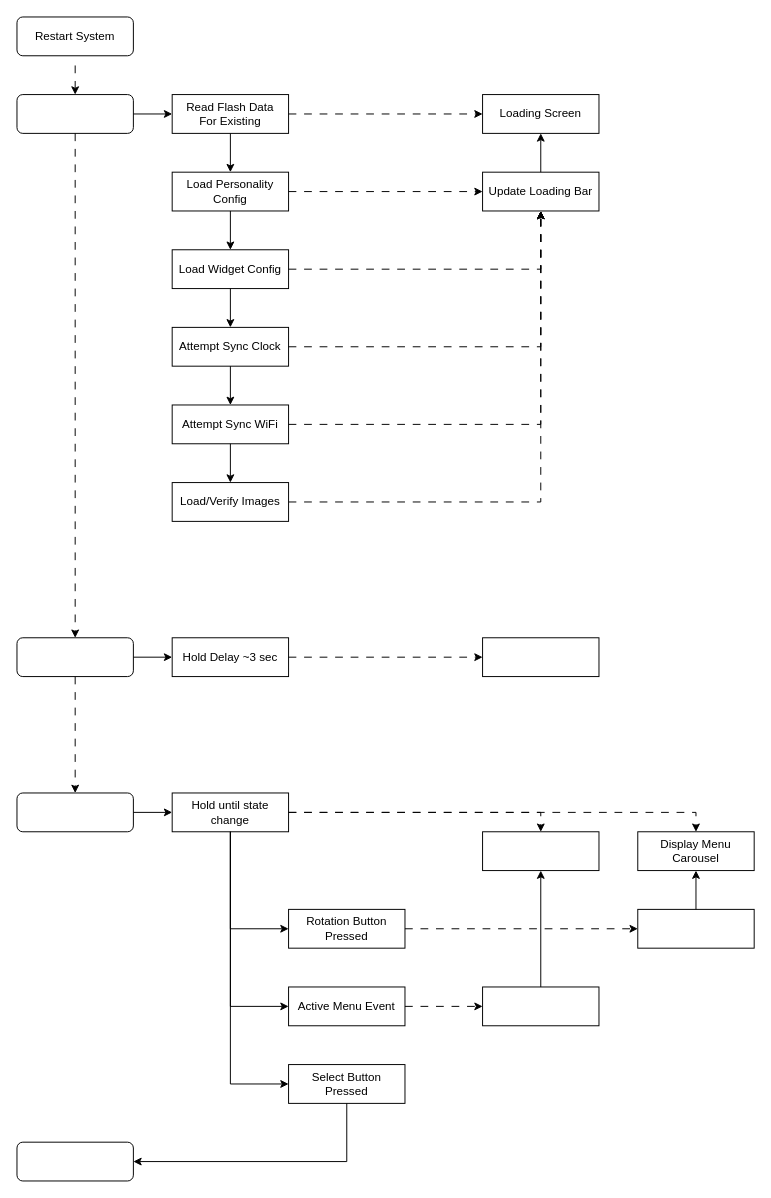
The diagram is 771 pixels wide and 1198 high, and some of its shapes have lost their labels. The shapes that lost their labels are listed below. From the top down, each one's centre as x and y in pixels, then its label:
At point 74,113: "Startup".
At point 74,657: "Personality Hero Screen".
At point 540,657: "Display Loaded Hero Screen".
At point 74,812: "Main Menu".
At point 540,851: "Display Personality Image".
At point 695,928: "Update Carousel".
At point 540,1006: "Try Display Personality Message".
At point 74,1161: "Open Menu of Active".
